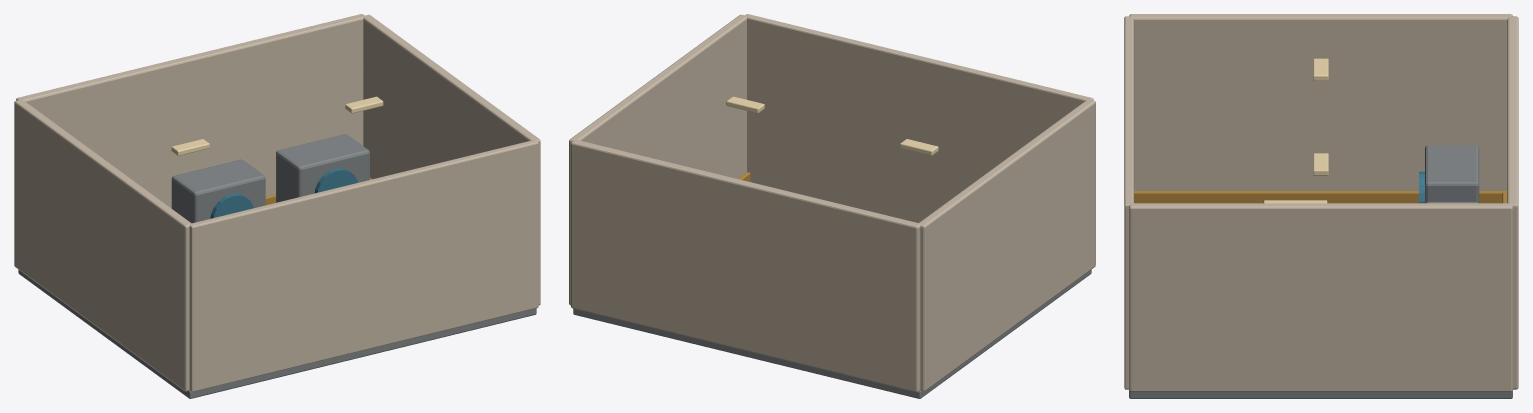
Rendered from apartment_laundry_a.glb.
3 views of the same model, side by side, from view 1: azimuth 30°, elevation 25°; view 2: azimuth 150°, elevation 25°; view 3: azimuth 270°, elevation 25° (orthographic). The views are drawn at different scales.
Parts seen in each view (by area): view 1: CUTAWAY_FRONT, SET_Wall_Back, SET_Wall_Left, SET_Wall_Right, PROP_Washer_2, PROP_Washer_1, SET_Floor, PROP_WasherDoor_1, PROP_WasherDoor_2; view 2: SET_Wall_Back, CUTAWAY_FRONT, SET_Wall_Left, SET_Wall_Right, SET_Floor; view 3: SET_Wall_Right, SET_Wall_Left, SET_Trim_Left, SET_Wall_Back, PROP_Washer_0, CUTAWAY_FRONT, SET_Floor, SET_LightFixture_R, SET_LightFixture_L.
Boxes of the visible parts, left/top/right/bottom form: CUTAWAY_FRONT: left=189, top=140, right=538, bottom=392; SET_Wall_Back: left=16, top=14, right=364, bottom=208; SET_Wall_Left: left=14, top=100, right=191, bottom=391; SET_Wall_Right: left=363, top=14, right=540, bottom=305; PROP_Washer_2: left=276, top=134, right=369, bottom=202; PROP_Washer_1: left=171, top=159, right=265, bottom=223; SET_Floor: left=18, top=269, right=536, bottom=398; PROP_WasherDoor_1: left=210, top=193, right=253, bottom=218; PROP_WasherDoor_2: left=314, top=168, right=357, bottom=193; SET_Wall_Back: left=571, top=139, right=920, bottom=392; CUTAWAY_FRONT: left=745, top=14, right=1093, bottom=222; SET_Wall_Left: left=919, top=99, right=1095, bottom=391; SET_Wall_Right: left=569, top=14, right=746, bottom=305; SET_Floor: left=573, top=269, right=1091, bottom=398; SET_Wall_Right: left=1129, top=203, right=1512, bottom=391; SET_Wall_Left: left=1129, top=14, right=1512, bottom=190; SET_Trim_Left: left=1134, top=191, right=1506, bottom=203; SET_Wall_Back: left=1507, top=16, right=1518, bottom=389; PROP_Washer_0: left=1425, top=145, right=1479, bottom=203; CUTAWAY_FRONT: left=1124, top=16, right=1133, bottom=389; SET_Floor: left=1129, top=390, right=1512, bottom=398; SET_LightFixture_R: left=1313, top=153, right=1328, bottom=175; SET_LightFixture_L: left=1313, top=58, right=1328, bottom=80.
Size of what is drawn, in the model's own units: 7.18 by 3.36 by 6.17.
